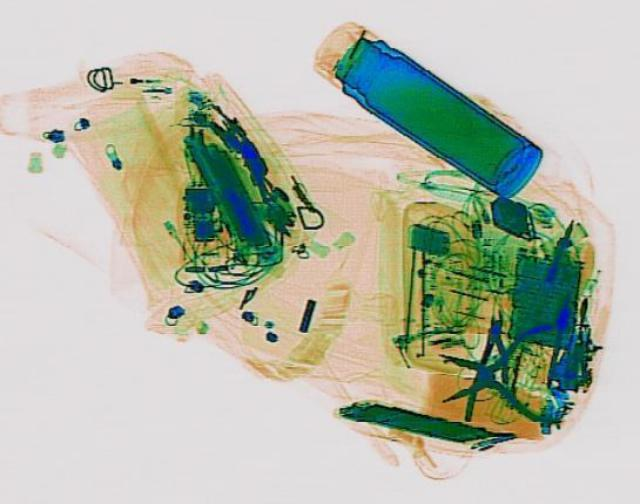Pliers: (433, 323, 559, 420), (462, 308, 514, 419)
